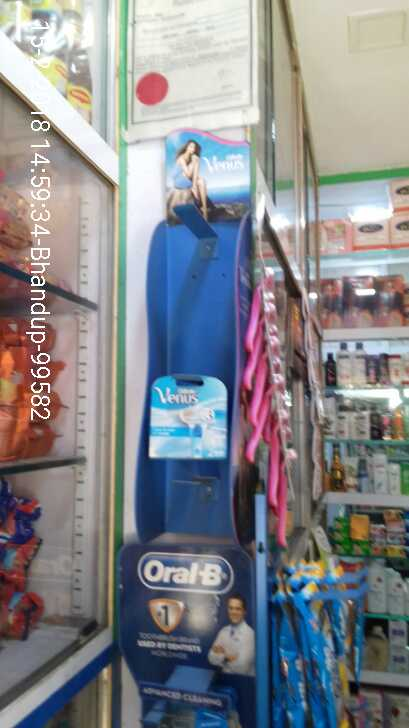beauty: (149, 373, 232, 461)
